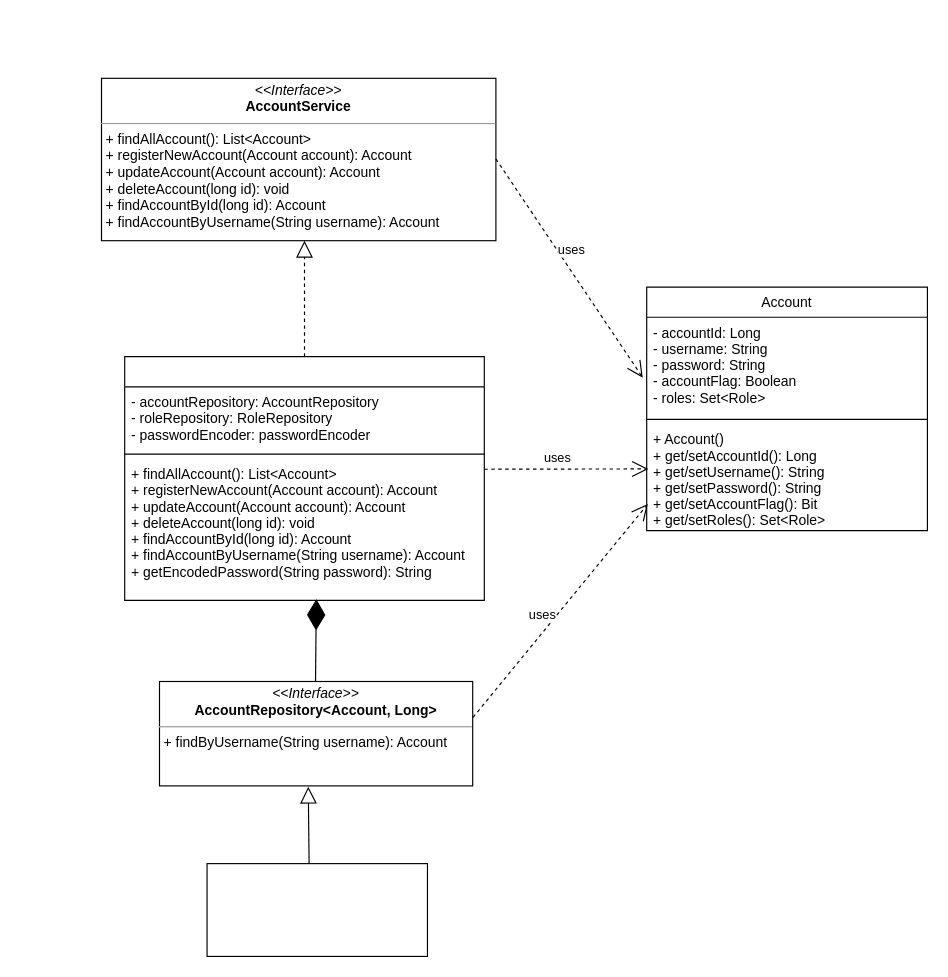
The diagram is 948 pixels wide and 977 high, and some of its shapes have lost their labels. The shapes that lost their labels are listed below. From the top down, each one's box as (x1, y1, x2, y2) in pixels, then its label:
(124, 356, 484, 600): AccountServiceImpl
(206, 862, 427, 956): <<Interface>> JpaRepository
